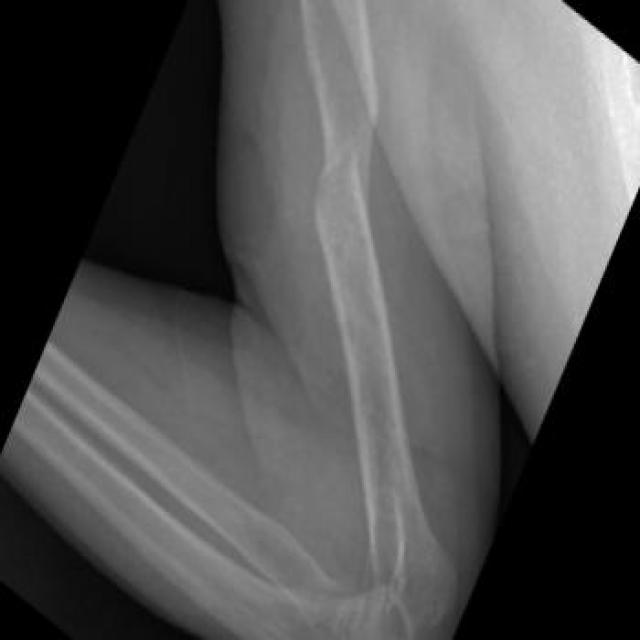Fracture: (304, 114, 388, 218)
